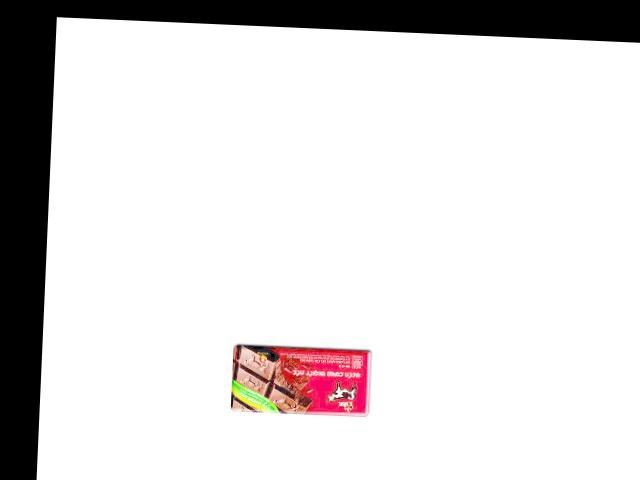chocolate: (230, 337, 376, 419)
